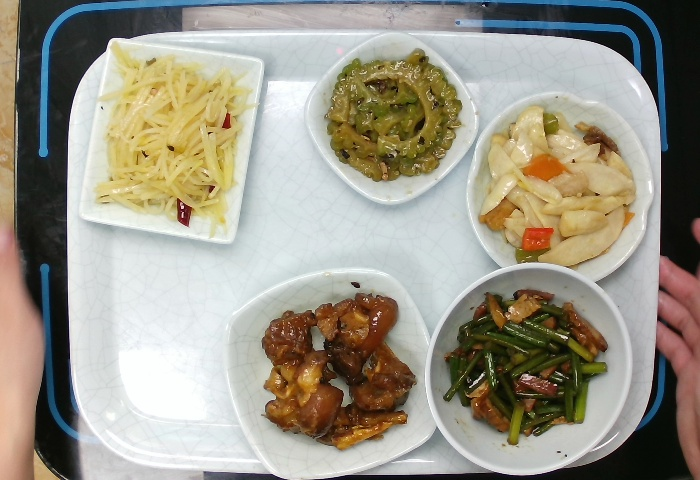JYsf-Ao_Yuan_Wan: (465, 85, 657, 297)
JYsf-Fan_Wan: (422, 258, 637, 480)
JYsf-Si_Fang_Die: (300, 27, 481, 207)
WCQzf-Da_Si_Fang_Die: (217, 263, 443, 480)
WCQzf-Ru_Ci_Si_Fang_Die: (71, 29, 269, 247)
